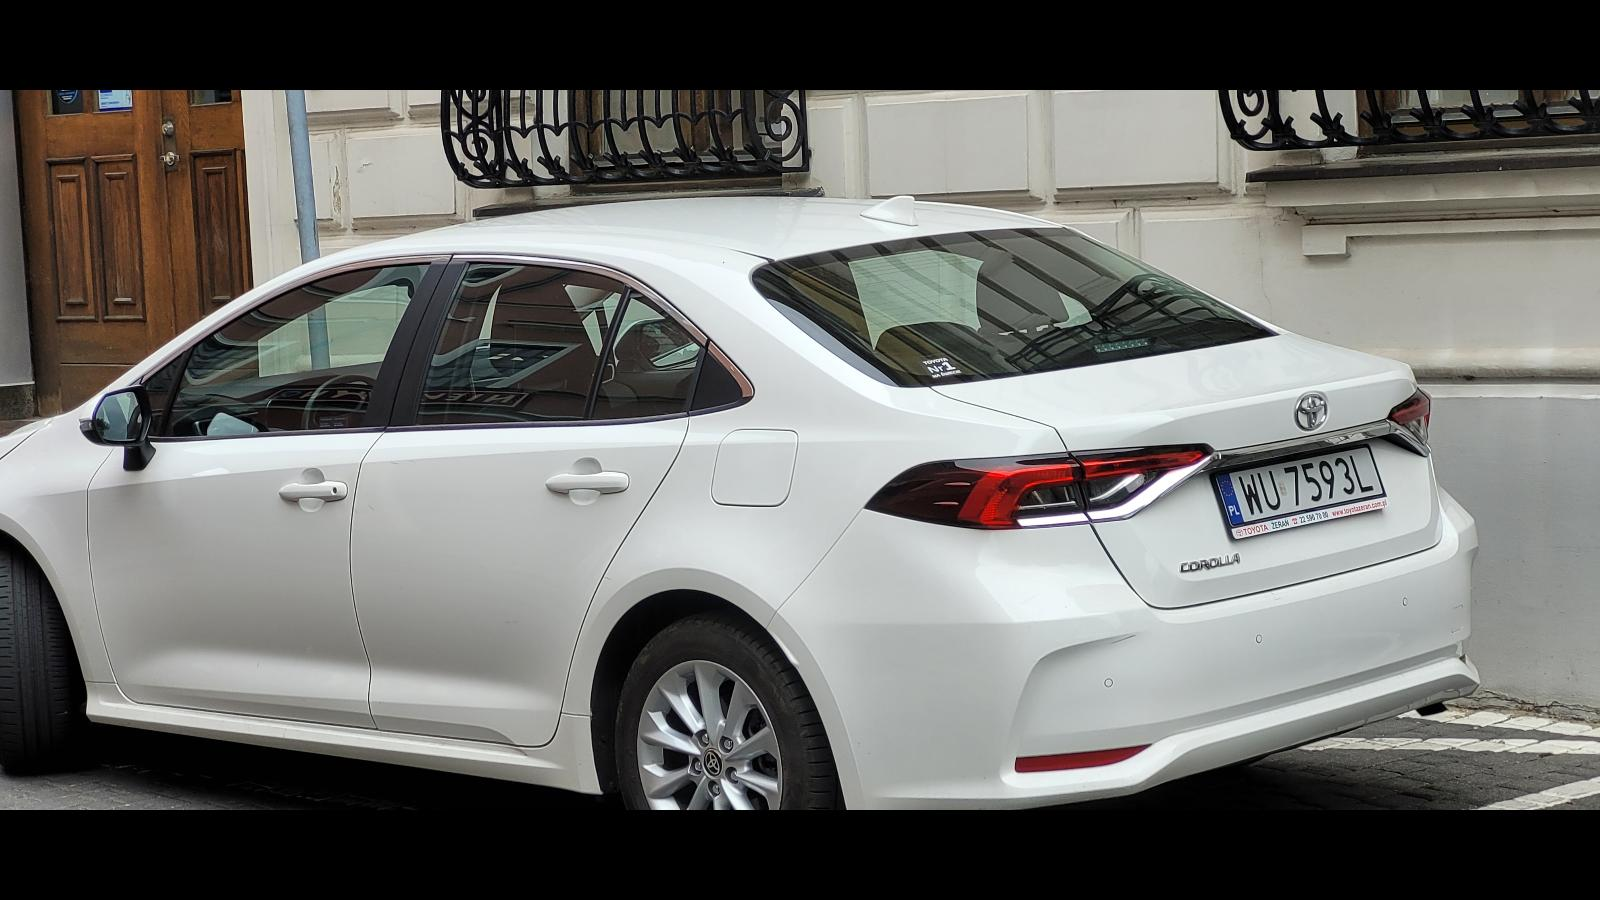plates: (1208, 443, 1390, 541)
